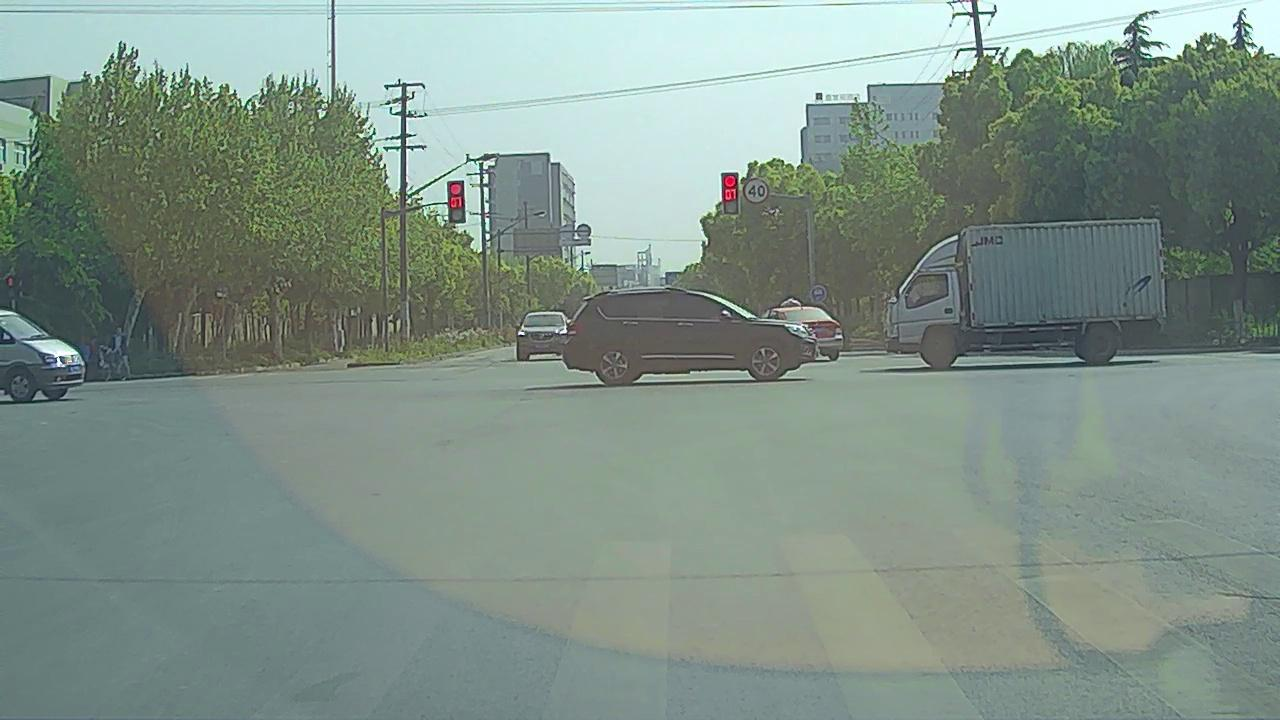traffic_light: (448, 181, 464, 221), (723, 174, 738, 213)
